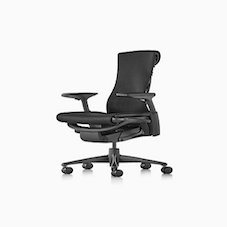chair: (36, 24, 207, 194)
